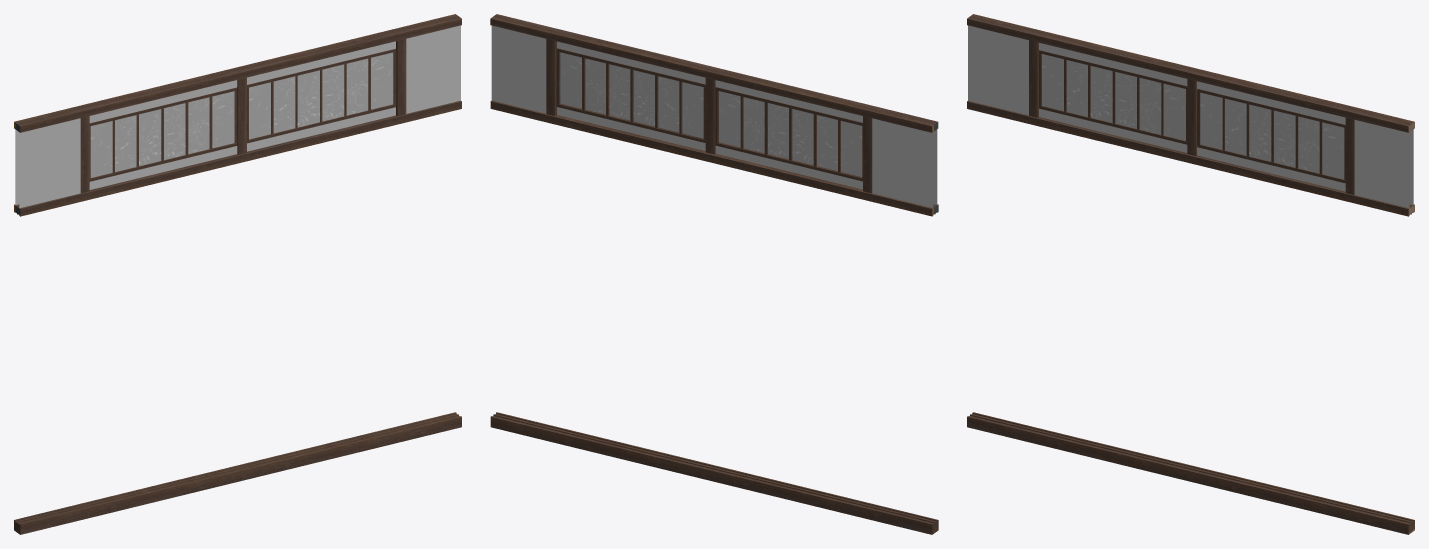
The model's file is jov_inwall_ranma_1.5t01.fbx.
The picture shows the model from 3 angles, left to right: view 1: azimuth 30°, elevation 25°; view 2: azimuth 150°, elevation 25°; view 3: azimuth 330°, elevation 25°; orthographic projection.
Parts seen in each view (by area): view 1: jov_inwall_ranma_1.5t01; view 2: jov_inwall_ranma_1.5t01; view 3: jov_inwall_ranma_1.5t01.
Boxes of the visible parts, bbox=[...] form: jov_inwall_ranma_1.5t01: bbox=[14, 14, 461, 534]; jov_inwall_ranma_1.5t01: bbox=[490, 14, 938, 534]; jov_inwall_ranma_1.5t01: bbox=[967, 14, 1414, 534].
Size of the model in its own units: 330 by 292 by 8.22.
